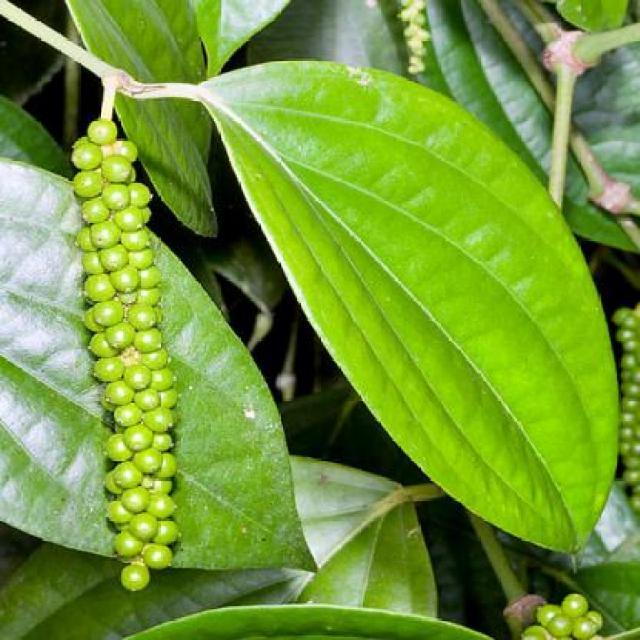UNRIPE: (71, 116, 178, 587), (611, 311, 638, 494), (395, 2, 431, 71)
